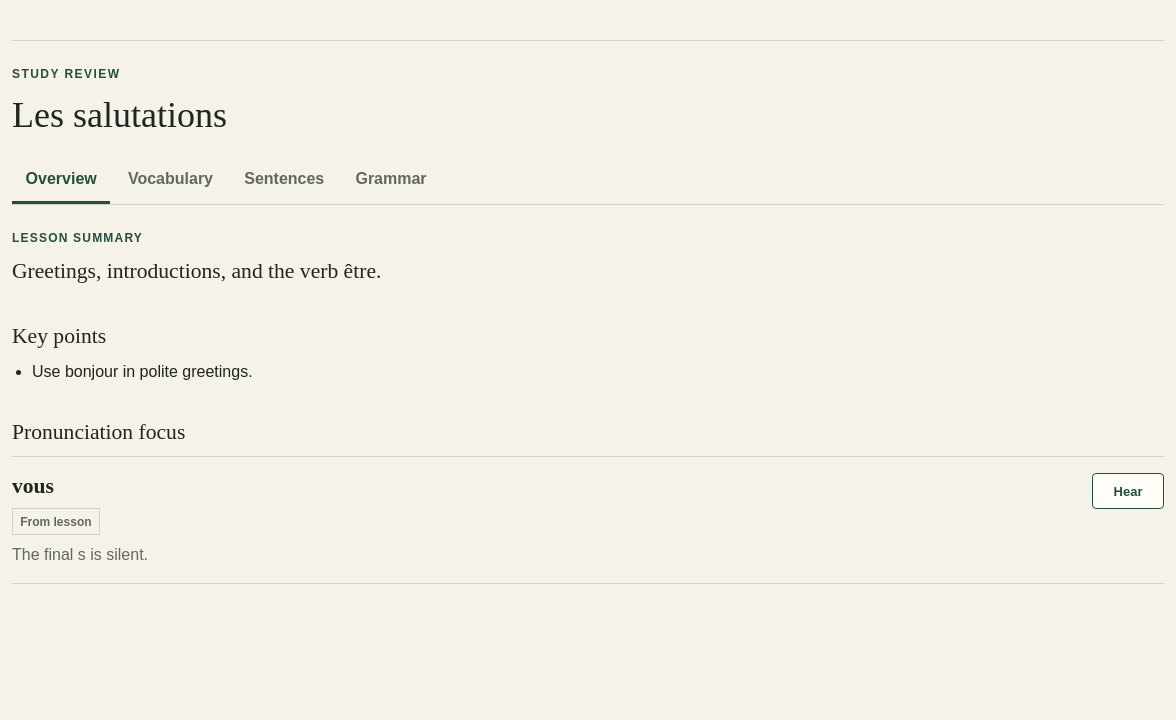
structured lesson study rendering › groups French and provenance separately from aligned speech controls
Click the tab "Sentences".
click(284, 180)  # box [231,156,338,204]
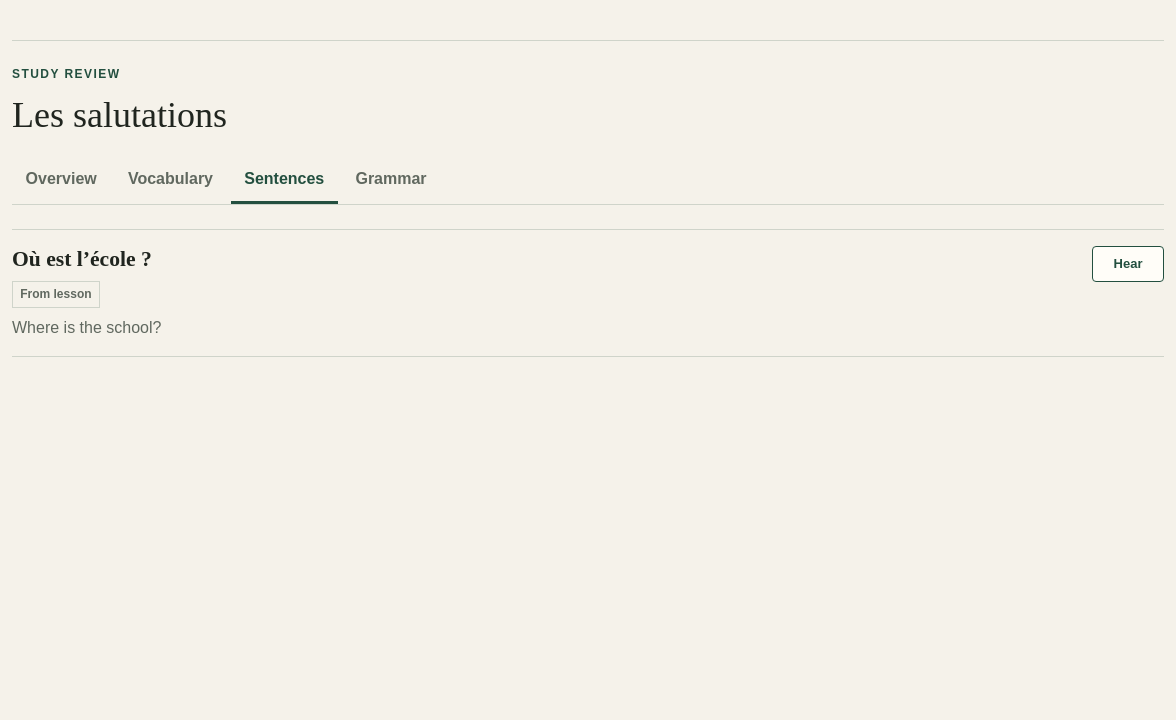
Expected: the text "Où est l’école ?" shows "From lesson", [20,287,92,301]
Expected: the text "Où est l’école ?" is shown, [12,247,152,271]
Expected: the button with aria-label "Hear Où est l’école ? in French" is shown, [1092,246,1164,282]
